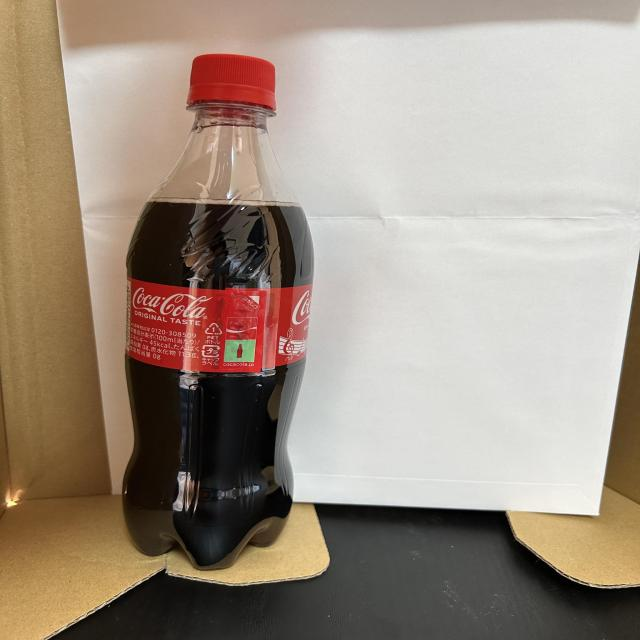high: (121, 54, 312, 568)
